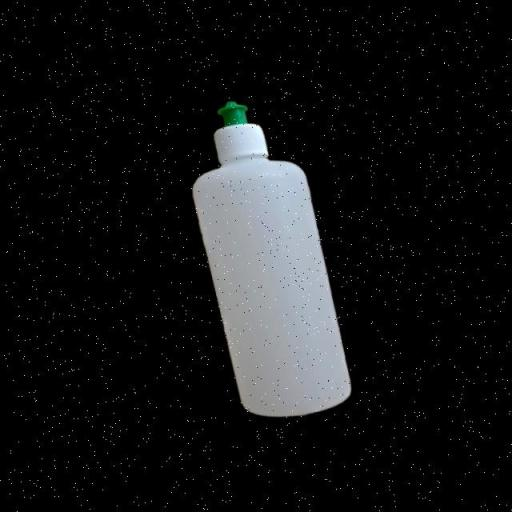plastic: (164, 80, 367, 431)
